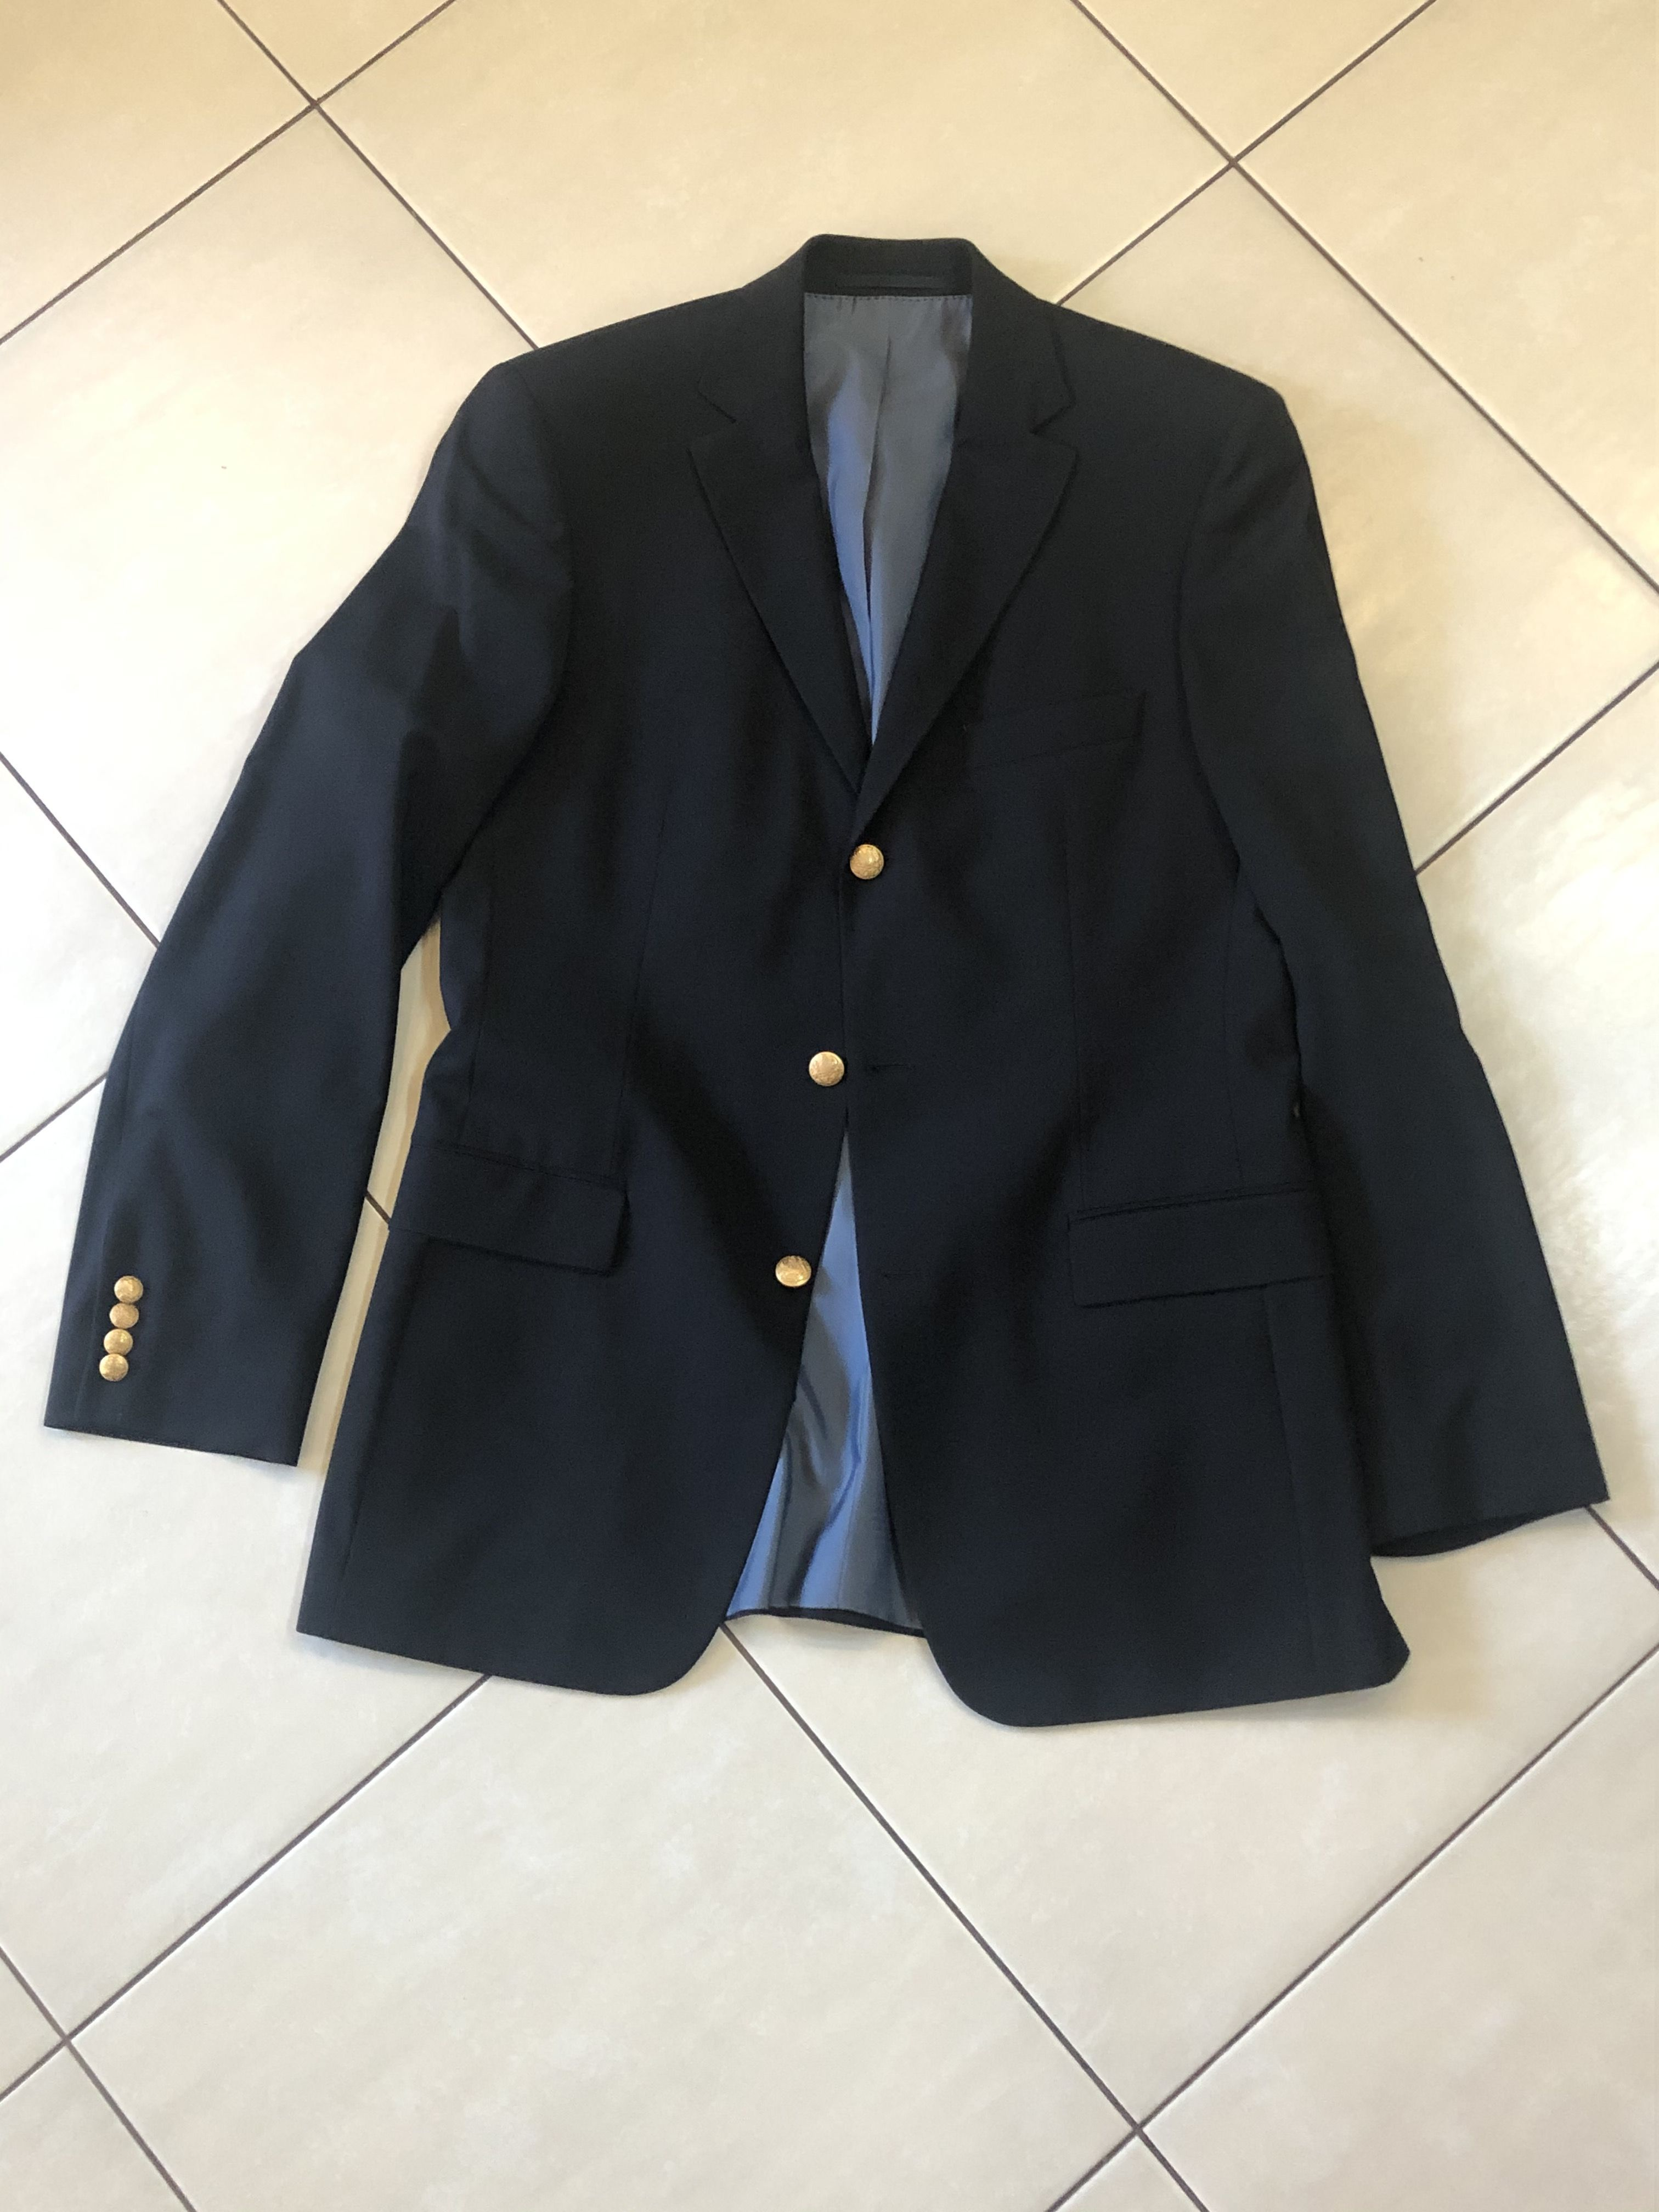clothes: (38, 202, 1591, 1703)
